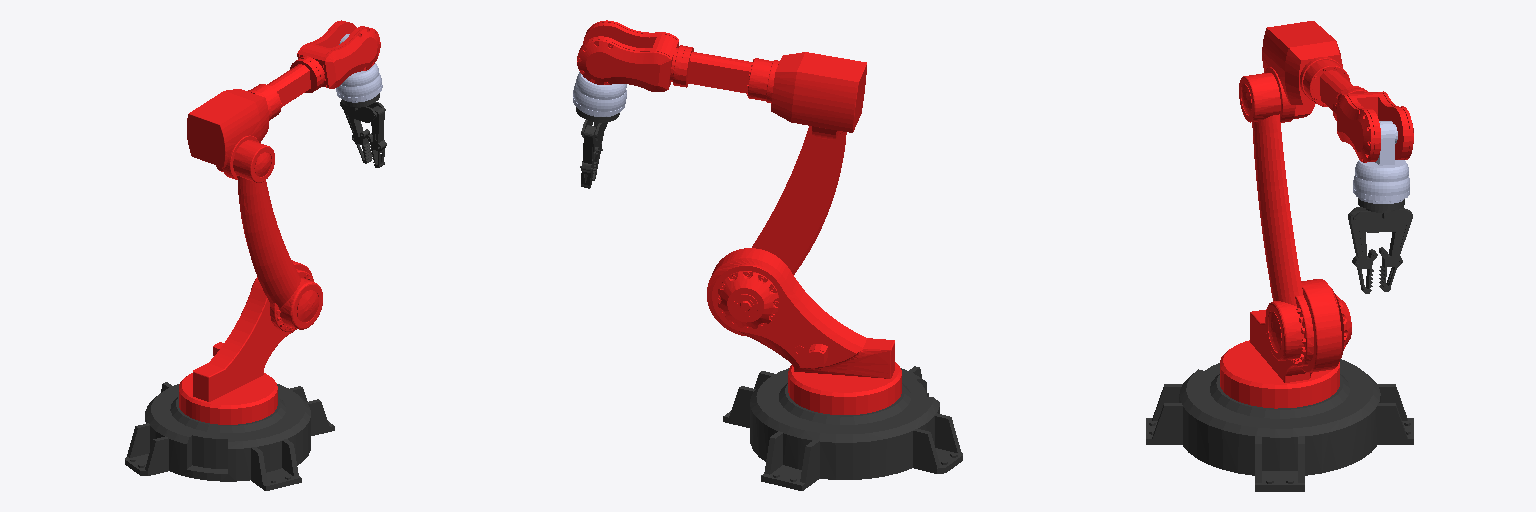
URDF robot description (robot arm urdf):
<?xml version="1.0" encoding="utf-8"?>
<!-- This URDF was automatically created by SolidWorks to URDF Exporter! Originally created by Stephen Brawner (brawner@gmail.com) 
     Commit Version: 1.6.0-4-g7f85cfe  Build Version: 1.6.7995.38578
     For more information, please see http://wiki.ros.org/sw_urdf_exporter -->
<robot
  name="robot arm urdf">
  <link
    name="base_link">
    <inertial>
      <origin
        xyz="0.0012216 0.0014163 0.038643"
        rpy="0 0 0" />
      <mass
        value="5.8109" />
      <inertia
        ixx="0.037117"
        ixy="0.00079987"
        ixz="-3.5212E-05"
        iyy="0.037079"
        iyz="-4.1829E-05"
        izz="0.067766" />
    </inertial>
    <visual>
      <origin
        xyz="0 0 0"
        rpy="0 0 0" />
      <geometry>
        <mesh
          filename="package://robot arm urdf/meshes/base_link.STL" />
      </geometry>
      <material
        name="">
        <color
          rgba="0.26667 0.26667 0.26667 1" />
        <texture
          filename="package://robot arm urdf/textures/robot arm1.STL" />
      </material>
    </visual>
    <collision>
      <origin
        xyz="0 0 0"
        rpy="0 0 0" />
      <geometry>
        <mesh
          filename="package://robot arm urdf/meshes/base_link.STL" />
      </geometry>
    </collision>
  </link>
  <link
    name="Link_1">
    <inertial>
      <origin
        xyz="-0.053415 -0.0233 0.083426"
        rpy="0 0 0" />
      <mass
        value="2.359" />
      <inertia
        ixx="0.013987"
        ixy="-0.004282"
        ixz="0.0086722"
        iyy="0.022628"
        iyz="0.0036574"
        izz="0.016693" />
    </inertial>
    <visual>
      <origin
        xyz="0 0 0"
        rpy="0 0 0" />
      <geometry>
        <mesh
          filename="package://robot arm urdf/meshes/Link_1.STL" />
      </geometry>
      <material
        name="">
        <color
          rgba="1 0.16863 0.16863 1" />
        <texture
          filename="package://robot arm urdf/textures/robot arm2.STL" />
      </material>
    </visual>
    <collision>
      <origin
        xyz="0 0 0"
        rpy="0 0 0" />
      <geometry>
        <mesh
          filename="package://robot arm urdf/meshes/Link_1.STL" />
      </geometry>
    </collision>
  </link>
  <joint
    name="base_joint"
    type="revolute">
    <origin
      xyz="-0.00022853 0 0.085"
      rpy="0 0 3.1416" />
    <parent
      link="base_link" />
    <child
      link="Link_1" />
    <axis
      xyz="0 0 1" />
    <limit
      lower="-3.14"
      upper="3.14"
      effort="30"
      velocity="0.5" />
  </joint>
  <link
    name="Link_2">
    <inertial>
      <origin
        xyz="-0.11273 0.098482 -0.016199"
        rpy="0 0 0" />
      <mass
        value="1.0451" />
      <inertia
        ixx="0.0076225"
        ixy="0.0087883"
        ixz="5.3201E-06"
        iyy="0.011806"
        iyz="-2.9302E-05"
        izz="0.019132" />
    </inertial>
    <visual>
      <origin
        xyz="0 0 0"
        rpy="0 0 0" />
      <geometry>
        <mesh
          filename="package://robot arm urdf/meshes/Link_2.STL" />
      </geometry>
      <material
        name="">
        <color
          rgba="1 0.16863 0.16863 1" />
        <texture
          filename="package://robot arm urdf/textures/robot arm3.STL" />
      </material>
    </visual>
    <collision>
      <origin
        xyz="0 0 0"
        rpy="0 0 0" />
      <geometry>
        <mesh
          filename="package://robot arm urdf/meshes/Link_2.STL" />
      </geometry>
    </collision>
  </link>
  <joint
    name="shoulder_joint"
    type="revolute">
    <origin
      xyz="-0.14796 -0.031745 0.16"
      rpy="1.5708 1.2812 0.3439" />
    <parent
      link="Link_1" />
    <child
      link="Link_2" />
    <axis
      xyz="0 0 -1" />
    <limit
      lower="-1.57"
      upper="1.57"
      effort="30"
      velocity="0.5" />
  </joint>
  <link
    name="Link_3">
    <inertial>
      <origin
        xyz="-0.05549 -0.027798 0.046027"
        rpy="0 0 0" />
      <mass
        value="1.4524" />
      <inertia
        ixx="0.0073055"
        ixy="-0.0026439"
        ixz="0.00019603"
        iyy="0.0031398"
        iyz="6.4307E-05"
        izz="0.0089138" />
    </inertial>
    <visual>
      <origin
        xyz="0 0 0"
        rpy="0 0 0" />
      <geometry>
        <mesh
          filename="package://robot arm urdf/meshes/Link_3.STL" />
      </geometry>
      <material
        name="">
        <color
          rgba="1 0.16863 0.16863 1" />
        <texture
          filename="package://robot arm urdf/textures/robot arm4.STL" />
      </material>
    </visual>
    <collision>
      <origin
        xyz="0 0 0"
        rpy="0 0 0" />
      <geometry>
        <mesh
          filename="package://robot arm urdf/meshes/Link_3.STL" />
      </geometry>
    </collision>
  </link>
  <joint
    name="elbow_joint"
    type="revolute">
    <origin
      xyz="-0.27748 0.21332 0"
      rpy="0 0 0" />
    <parent
      link="Link_2" />
    <child
      link="Link_3" />
    <axis
      xyz="0 0 1" />
    <limit
      lower="-1.57"
      upper="1.57"
      effort="30"
      velocity="0.5" />
  </joint>
  <link
    name="Link_4">
    <inertial>
      <origin
        xyz="8.9657E-07 8.9308E-07 0.064549"
        rpy="0 0 0" />
      <mass
        value="0.4953" />
      <inertia
        ixx="0.0012507"
        ixy="-7.6173E-05"
        ixz="1.2853E-08"
        iyy="0.0012792"
        iyz="1.5193E-08"
        izz="0.00050808" />
    </inertial>
    <visual>
      <origin
        xyz="0 0 0"
        rpy="0 0 0" />
      <geometry>
        <mesh
          filename="package://robot arm urdf/meshes/Link_4.STL" />
      </geometry>
      <material
        name="">
        <color
          rgba="1 0.16863 0.16863 1" />
        <texture
          filename="package://robot arm urdf/textures/robot arm 5.STL" />
      </material>
    </visual>
    <collision>
      <origin
        xyz="0 0 0"
        rpy="0 0 0" />
      <geometry>
        <mesh
          filename="package://robot arm urdf/meshes/Link_4.STL" />
      </geometry>
    </collision>
  </link>
  <joint
    name="wrist_joint1"
    type="revolute">
    <origin
      xyz="-0.13744 -0.2093 0.048"
      rpy="1.5708 -0.79447 -0.39342" />
    <parent
      link="Link_3" />
    <child
      link="Link_4" />
    <axis
      xyz="0 0 -1" />
    <limit
      lower="-3.14"
      upper="3.14"
      effort="10"
      velocity="0.5" />
  </joint>
  <link
    name="Link_5">
    <inertial>
      <origin
        xyz="0.046056 -0.037235 -1.0232E-12"
        rpy="0 0 0" />
      <mass
        value="0.3594" />
      <inertia
        ixx="0.00031552"
        ixy="8.6065E-05"
        ixz="-1.2799E-17"
        iyy="0.00035239"
        iyz="1.0533E-17"
        izz="0.00042279" />
    </inertial>
    <visual>
      <origin
        xyz="0 0 0"
        rpy="0 0 0" />
      <geometry>
        <mesh
          filename="package://robot arm urdf/meshes/Link_5.STL" />
      </geometry>
      <material
        name="">
        <color
          rgba="0.79216 0.81961 0.93333 1" />
        <texture
          filename="package://robot arm urdf/textures/robot arm6.STL" />
      </material>
    </visual>
    <collision>
      <origin
        xyz="0 0 0"
        rpy="0 0 0" />
      <geometry>
        <mesh
          filename="package://robot arm urdf/meshes/Link_5.STL" />
      </geometry>
    </collision>
  </link>
  <joint
    name="wrist_joint2"
    type="revolute">
    <origin
      xyz="0 0 0.115"
      rpy="-1.5708 0.64897 -0.87801" />
    <parent
      link="Link_4" />
    <child
      link="Link_5" />
    <axis
      xyz="0 0 1" />
    <limit
      lower="-1.57"
      upper="1.57"
      effort="10"
      velocity="0.5" />
  </joint>
  <link
    name="Link_6">
    <inertial>
      <origin
        xyz="-6.9145E-13 -1.3927E-12 -0.015204"
        rpy="0 0 0" />
      <mass
        value="0.063097" />
      <inertia
        ixx="3.3147E-05"
        ixy="-2.4623E-06"
        ixz="-6.9626E-19"
        iyy="2.7325E-05"
        iyz="-8.8854E-19"
        izz="3.8446E-05" />
    </inertial>
    <visual>
      <origin
        xyz="0 0 0"
        rpy="0 0 0" />
      <geometry>
        <mesh
          filename="package://robot arm urdf/meshes/Link_6.STL" />
      </geometry>
      <material
        name="">
        <color
          rgba="0.26667 0.26667 0.26667 1" />
        <texture
          filename="package://robot arm urdf/textures/robotarm7.1.STL" />
      </material>
    </visual>
    <collision>
      <origin
        xyz="0 0 0"
        rpy="0 0 0" />
      <geometry>
        <mesh
          filename="package://robot arm urdf/meshes/Link_6.STL" />
      </geometry>
    </collision>
  </link>
  <joint
    name="wrist_joint3"
    type="revolute">
    <origin
      xyz="0.076209 -0.061613 0"
      rpy="1.5708 -0.28384 -2.2507" />
    <parent
      link="Link_5" />
    <child
      link="Link_6" />
    <axis
      xyz="0 0 -1" />
    <limit
      lower="-3.14"
      upper="3.14"
      effort="10"
      velocity="0.5" />
  </joint>
  <link
    name="Link_7">
    <inertial>
      <origin
        xyz="0.041361 -0.025945 -3.4461E-13"
        rpy="0 0 0" />
      <mass
        value="0.030382" />
      <inertia
        ixx="8.0725E-06"
        ixy="1.2492E-05"
        ixz="8.7922E-19"
        iyy="2.7717E-05"
        iyz="5.6328E-20"
        izz="3.4659E-05" />
    </inertial>
    <visual>
      <origin
        xyz="0 0 0"
        rpy="0 0 0" />
      <geometry>
        <mesh
          filename="package://robot arm urdf/meshes/Link_7.STL" />
      </geometry>
      <material
        name="">
        <color
          rgba="0.26667 0.26667 0.26667 1" />
        <texture
          filename="package://robot arm urdf/textures/robot arm8.STL" />
      </material>
    </visual>
    <collision>
      <origin
        xyz="0 0 0"
        rpy="0 0 0" />
      <geometry>
        <mesh
          filename="package://robot arm urdf/meshes/Link_7.STL" />
      </geometry>
    </collision>
  </link>
  <joint
    name="right_finger"
    type="revolute">
    <origin
      xyz="0.014688 0.040106 -0.028488"
      rpy="1.5708 1.3765 1.2197" />
    <parent
      link="Link_6" />
    <child
      link="Link_7" />
    <axis
      xyz="0 0 -1" />
    <limit
      lower="0"
      upper="0.7"
      effort="2"
      velocity="0.5" />
  </joint>
  <link
    name="Link_8">
    <inertial>
      <origin
        xyz="0.048557 0.0051122 -3.1619E-13"
        rpy="0 0 0" />
      <mass
        value="0.030382" />
      <inertia
        ixx="2.0042E-06"
        ixy="9.8686E-08"
        ixz="-4.3326E-19"
        iyy="3.3785E-05"
        iyz="2.4019E-19"
        izz="3.4659E-05" />
    </inertial>
    <visual>
      <origin
        xyz="0 0 0"
        rpy="0 0 0" />
      <geometry>
        <mesh
          filename="package://robot arm urdf/meshes/Link_8.STL" />
      </geometry>
      <material
        name="">
        <color
          rgba="0.26667 0.26667 0.26667 1" />
        <texture
          filename="package://robot arm urdf/textures/robot arm8.STL" />
      </material>
    </visual>
    <collision>
      <origin
        xyz="0 0 0"
        rpy="0 0 0" />
      <geometry>
        <mesh
          filename="package://robot arm urdf/meshes/Link_8.STL" />
      </geometry>
    </collision>
  </link>
  <joint
    name="left_finger"
    type="revolute">
    <origin
      xyz="-0.014688 -0.040106 -0.028488"
      rpy="1.5708 1.3765 1.2197" />
    <parent
      link="Link_6" />
    <child
      link="Link_8" />
    <axis
      xyz="0 0 1" />
    <limit
      lower="0"
      upper="0.7"
      effort="2"
      velocity="0.5" />
  </joint>
</robot>

--- What the picture shows (computed from the rendered views, not written in the file) ---
Views: 3 orthographic renders of the robot side by side, from view 1: azimuth 30°, elevation 25°; view 2: azimuth 150°, elevation 25°; view 3: azimuth 270°, elevation 25°.
Model robot arm urdf with 9 links and 8 joints (8 revolute), rooted at base_link, posed all joints at 0.
Links seen in each view (by area): view 1: base_link, Link_1, Link_2, Link_3, Link_4, Link_5, Link_8, Link_6, Link_7; view 2: base_link, Link_1, Link_3, Link_2, Link_4, Link_5, Link_7; view 3: base_link, Link_2, Link_1, Link_3, Link_4, Link_5, Link_6, Link_8, Link_7.
Link boxes in pixels (x1,y1,x2,y2): base_link: [125, 382, 334, 490]; Link_1: [179, 260, 313, 424]; Link_2: [233, 140, 322, 331]; Link_3: [187, 56, 324, 179]; Link_4: [297, 20, 380, 88]; Link_5: [336, 34, 382, 102]; Link_8: [366, 106, 386, 167]; Link_6: [340, 93, 385, 122]; Link_7: [341, 100, 372, 163]; base_link: [723, 366, 962, 490]; Link_1: [707, 248, 901, 414]; Link_3: [673, 45, 866, 139]; Link_2: [752, 126, 846, 274]; Link_4: [577, 20, 678, 91]; Link_5: [573, 72, 626, 116]; Link_7: [580, 125, 597, 188]; base_link: [1146, 359, 1413, 491]; Link_2: [1239, 73, 1313, 366]; Link_1: [1220, 279, 1351, 408]; Link_3: [1262, 21, 1367, 122]; Link_4: [1337, 91, 1413, 162]; Link_5: [1353, 121, 1409, 203]; Link_6: [1351, 198, 1412, 232]; Link_8: [1348, 211, 1377, 293]; Link_7: [1379, 209, 1412, 291].
Bounding box of the posed robot: 0.6029 × 0.4 × 0.6983 m (x, y, z).
9 mesh visuals loaded from 9 distinct referenced files (9 binary STL).
